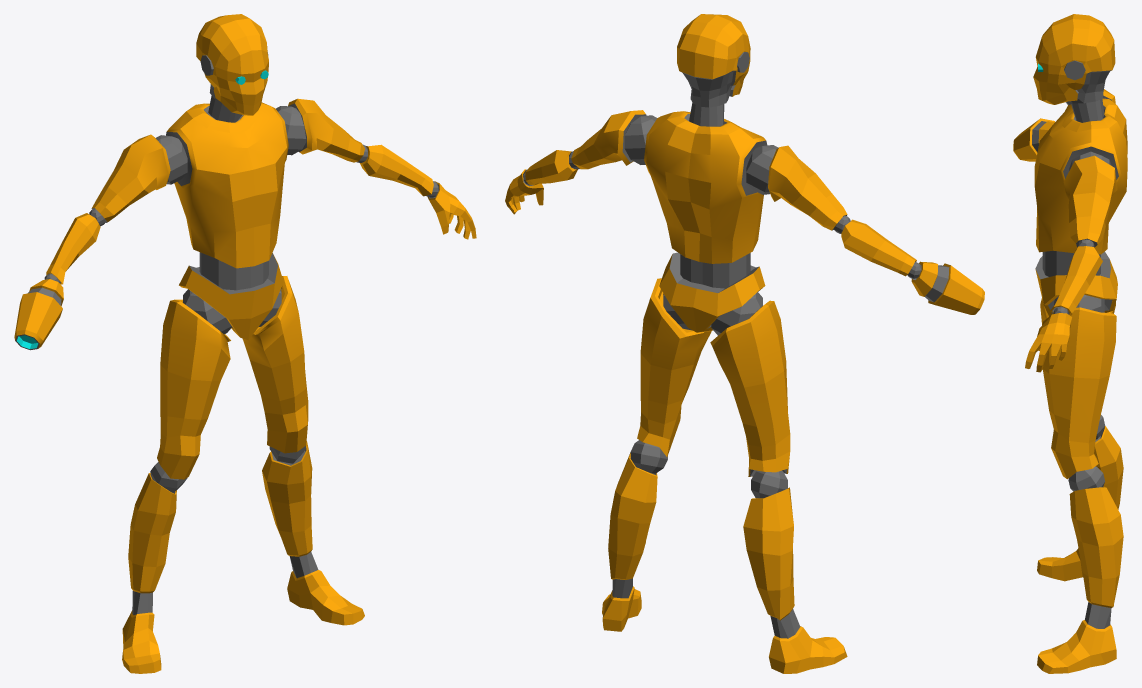
File: Robot.glb
3 views of the same model, side by side, from view 1: azimuth 30°, elevation 25°; view 2: azimuth 150°, elevation 25°; view 3: azimuth 270°, elevation 25° (orthographic). The views are drawn at different scales.
Parts seen in each view (by area): view 1: Base1:Male:Base1:Male:polySurface80; view 2: Base1:Male:Base1:Male:polySurface80; view 3: Base1:Male:Base1:Male:polySurface80.
Part boxes in pixels (x1,y1,x2,y2): Base1:Male:Base1:Male:polySurface80: (14,14,476,673); Base1:Male:Base1:Male:polySurface80: (505,14,984,673); Base1:Male:Base1:Male:polySurface80: (1013,14,1127,673).
Bounding box in the file's own units: 1.04 × 1.34 × 0.2306.
